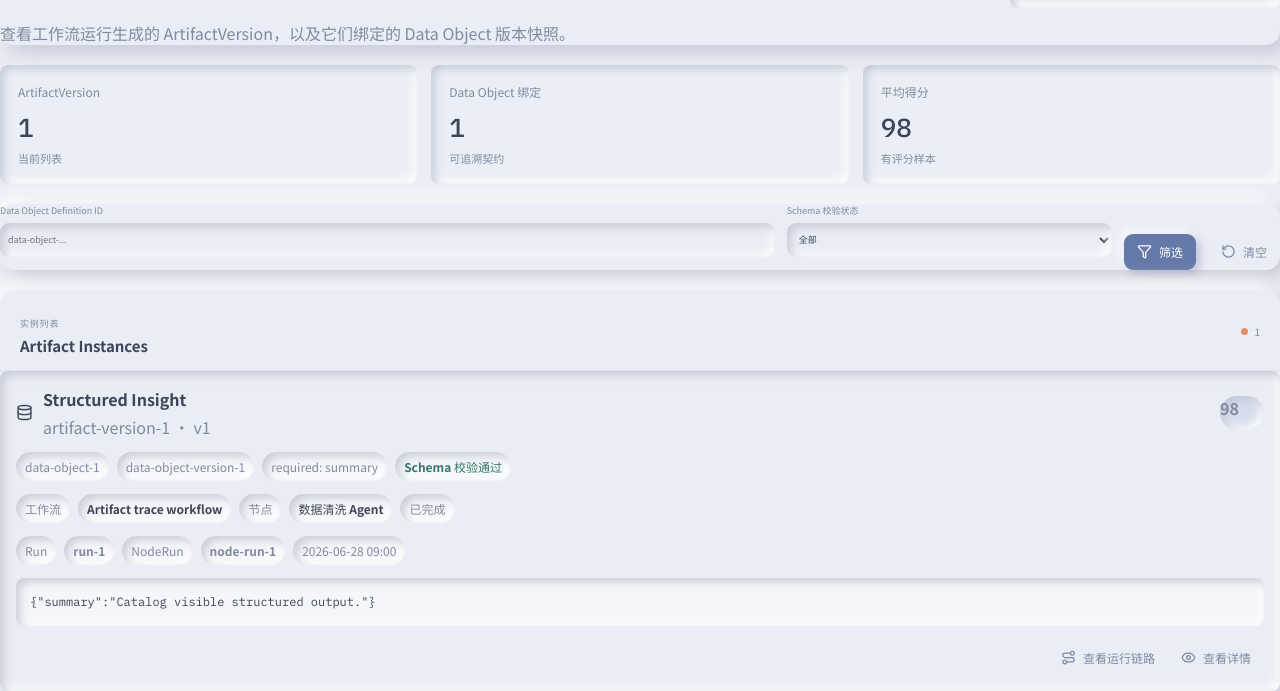
Artifacts page › opens an artifact detail dialog with formatted content and snapshot
(page scrolled)
expect the text "Structured Insight" is shown: met, box [43, 387, 186, 411]
Click the button with aria-label "查看 artifact-version-1 详情".
click(1216, 657)  # box [1168, 639, 1264, 675]
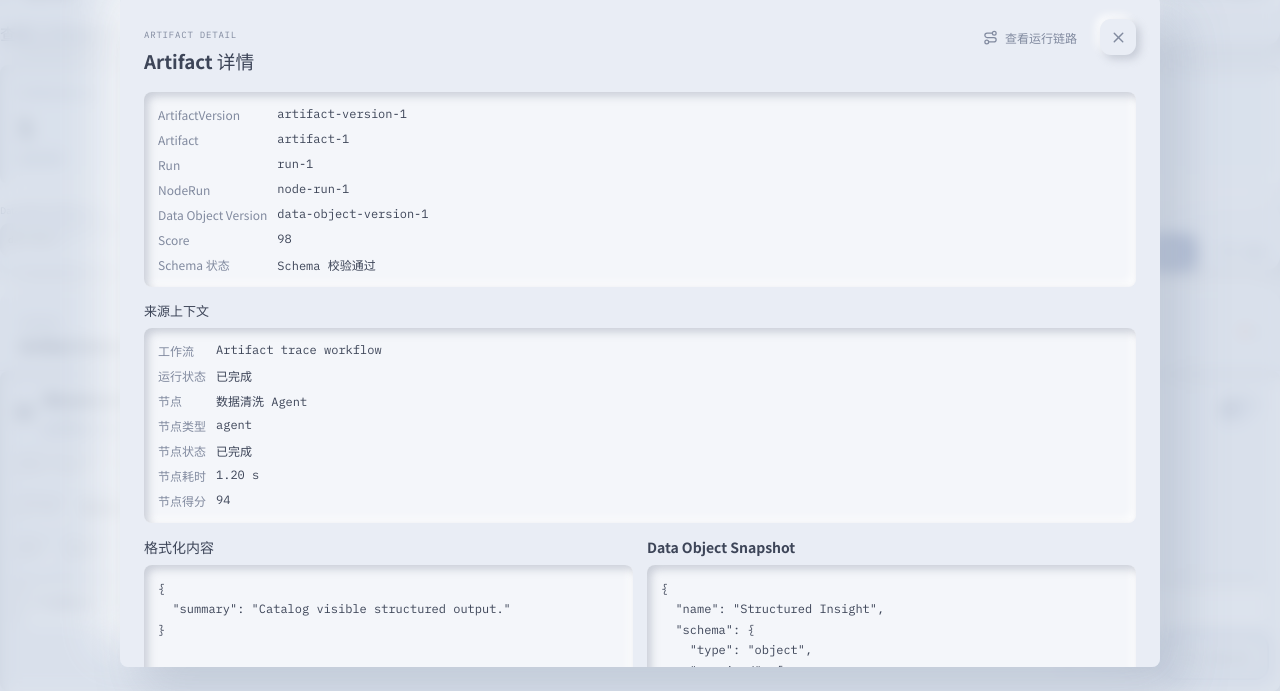
expect the dialog "Artifact 详情" shows "artifact-version-1": met, box [277, 106, 407, 121]
expect the dialog "Artifact 详情" shows "run-1": met, box [277, 156, 313, 171]
expect the dialog "Artifact 详情" shows "node-run-1": met, box [277, 181, 349, 196]
Click the button named "关闭 Artifact 详情".
click(1118, 37)  # box [1100, 19, 1136, 55]
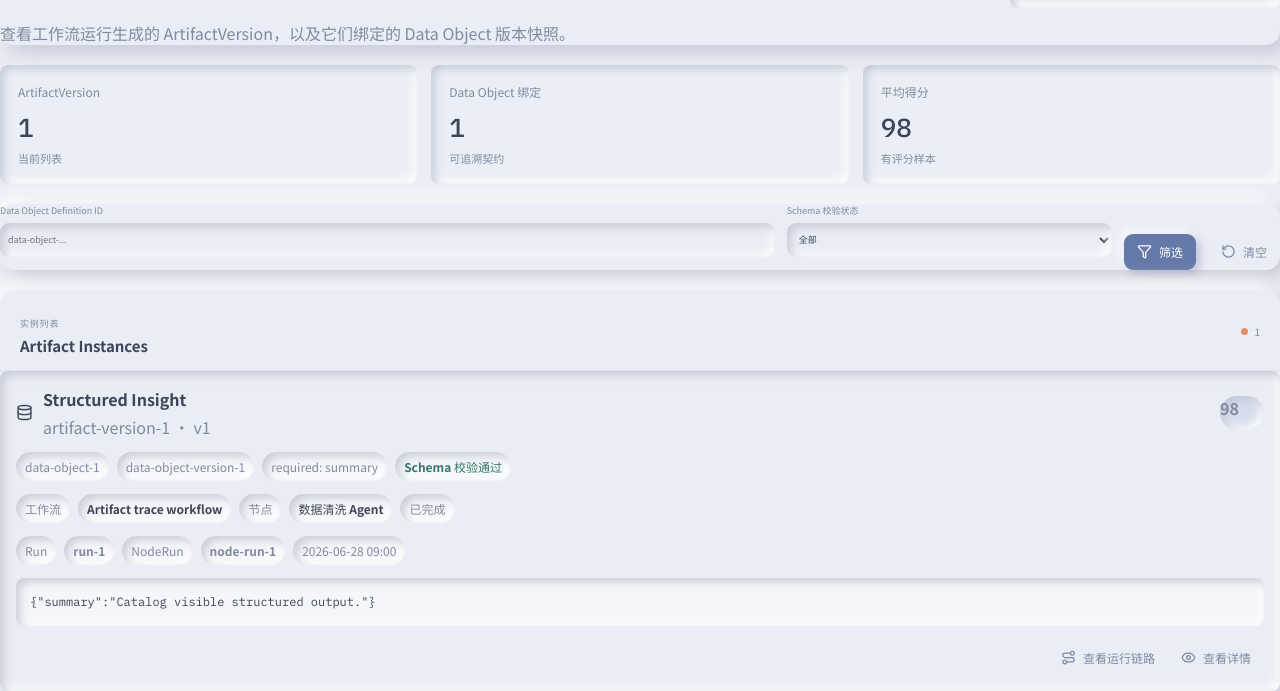
expect the heading "Artifact 详情" is gone: met
